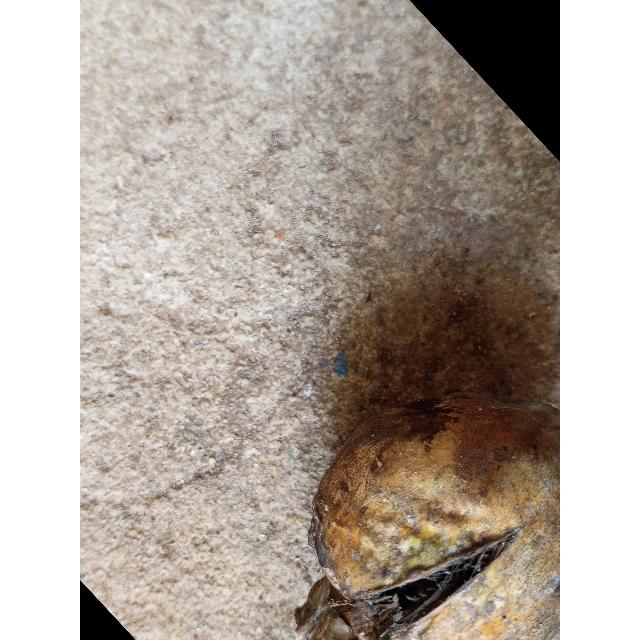damaged: (295, 393, 560, 640)
